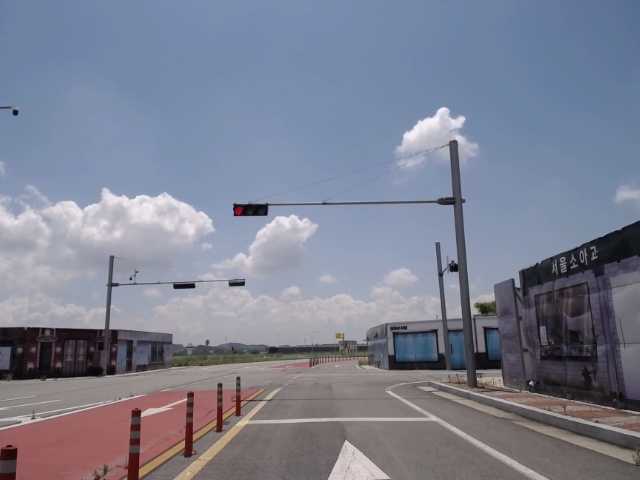red_3: (232, 202, 268, 216)
